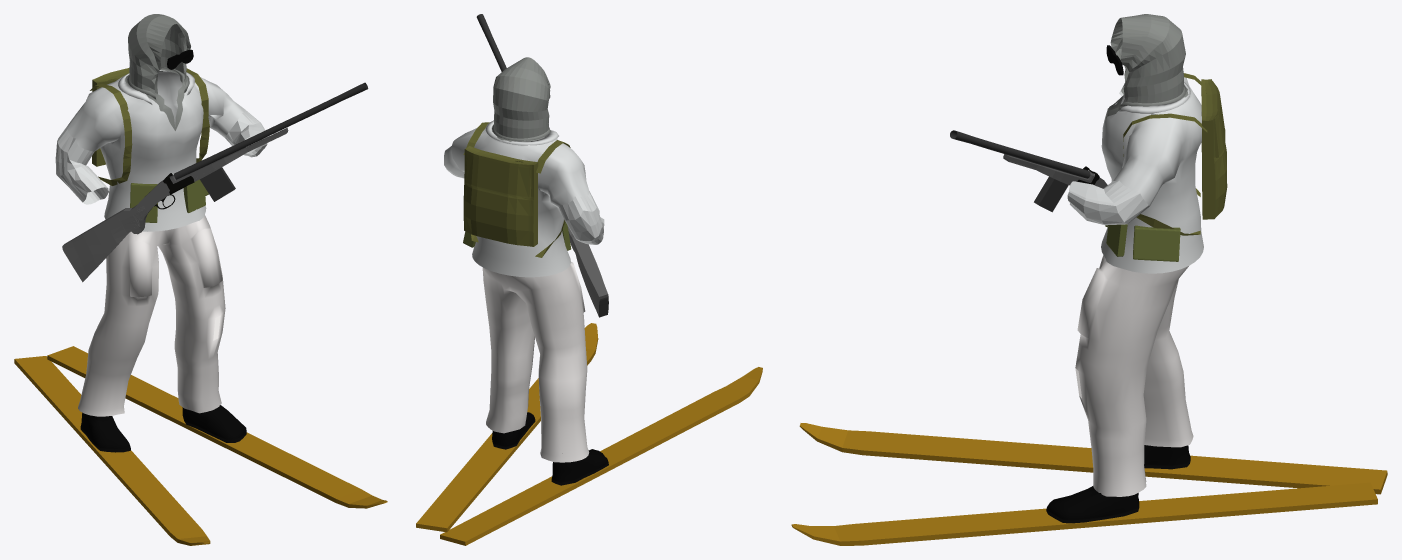
Rendered from Alpine Troops.dae.
The picture shows the model from 3 angles, left to right: view 1: azimuth 30°, elevation 25°; view 2: azimuth 150°, elevation 25°; view 3: azimuth 270°, elevation 25°; orthographic projection. The views are drawn at different scales.
Parts seen in each view (by area): view 1: pants, jacket, ski_right_001, ski_right, shirt, Plane, Cylinder_001, shoe_left, shoe_right, Circle, Circle_001, Cube (+3 smaller); view 2: pants, jacket, ski_right, backpack, ski_right_001, shirt, Plane, shoe_right, shoe_left, Cylinder_001; view 3: pants, jacket, ski_right, ski_right_001, shirt, backpack, shoe_left, Cube_003, Cylinder_001, shoe_right, Plane.
Boxes of the visible parts, x1,y1,x2,y2 form: pants: [78, 215, 225, 416]; jacket: [55, 70, 267, 231]; ski_right_001: [47, 346, 387, 508]; ski_right: [14, 356, 210, 545]; shirt: [125, 14, 190, 130]; Plane: [62, 127, 288, 282]; Cylinder_001: [174, 82, 368, 179]; shoe_left: [182, 405, 246, 442]; shoe_right: [80, 412, 130, 452]; Circle: [90, 84, 132, 185]; Circle_001: [186, 68, 209, 162]; Cube: [200, 167, 235, 201]; pants: [482, 262, 589, 462]; jacket: [444, 120, 604, 277]; ski_right: [440, 367, 762, 545]; backpack: [463, 146, 538, 246]; ski_right_001: [416, 323, 598, 532]; shirt: [492, 57, 550, 141]; Plane: [567, 226, 608, 317]; shoe_right: [551, 449, 608, 485]; shoe_left: [492, 412, 535, 449]; Cylinder_001: [476, 14, 506, 71]; pants: [1075, 255, 1193, 496]; jacket: [1067, 77, 1203, 273]; ski_right: [799, 423, 1387, 494]; ski_right_001: [791, 482, 1377, 545]; shirt: [1105, 14, 1188, 121]; backpack: [1201, 79, 1227, 219]; shoe_left: [1046, 486, 1139, 523]; Cube_003: [1133, 225, 1180, 261]; Cylinder_001: [950, 130, 1090, 178]; shoe_right: [1144, 445, 1190, 469]; Plane: [1003, 154, 1107, 188].
Bounding box in the file's own units: 1.21 × 2.25 × 2.03.
